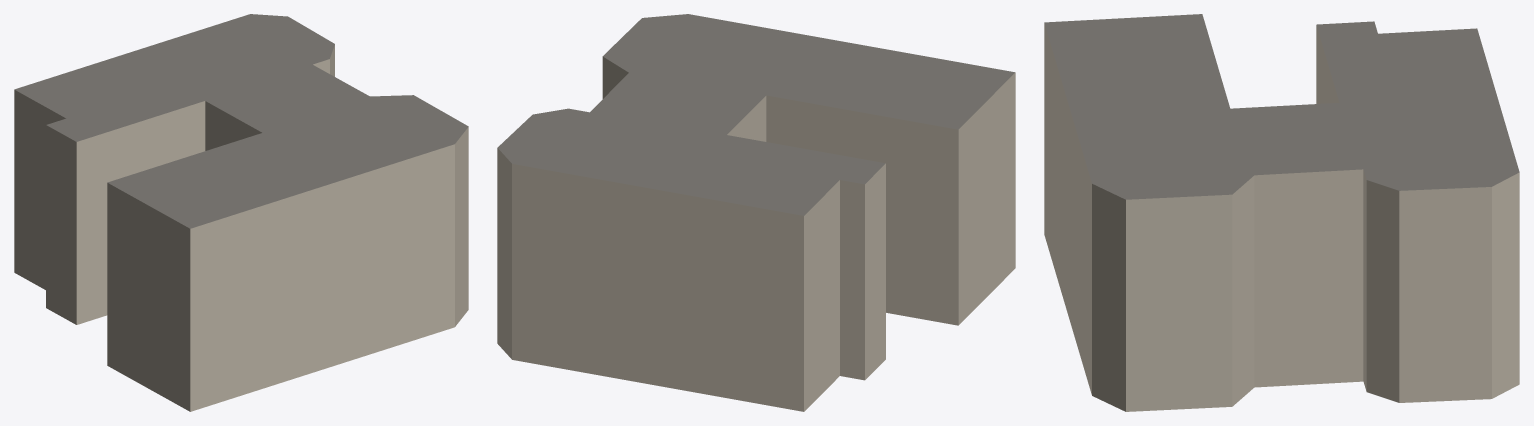
3 views of the same model, side by side, from view 1: azimuth 30°, elevation 25°; view 2: azimuth 150°, elevation 25°; view 3: azimuth 270°, elevation 25° (orthographic). The views are drawn at different scales.
Parts seen in each view (by area): view 1: HP-w446934777; view 2: HP-w446934777; view 3: HP-w446934777.
Part boxes in pixels (x1,y1,x2,y2): HP-w446934777: [14, 14, 468, 411]; HP-w446934777: [497, 14, 1015, 411]; HP-w446934777: [1044, 14, 1519, 411].
Bounding box in the file's own units: 33.8 × 18 × 36.54.
